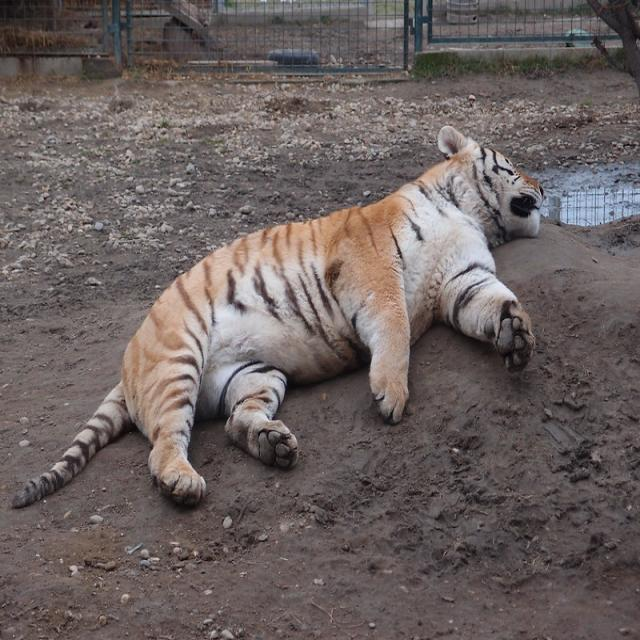Tiger: (11, 115, 553, 524)
